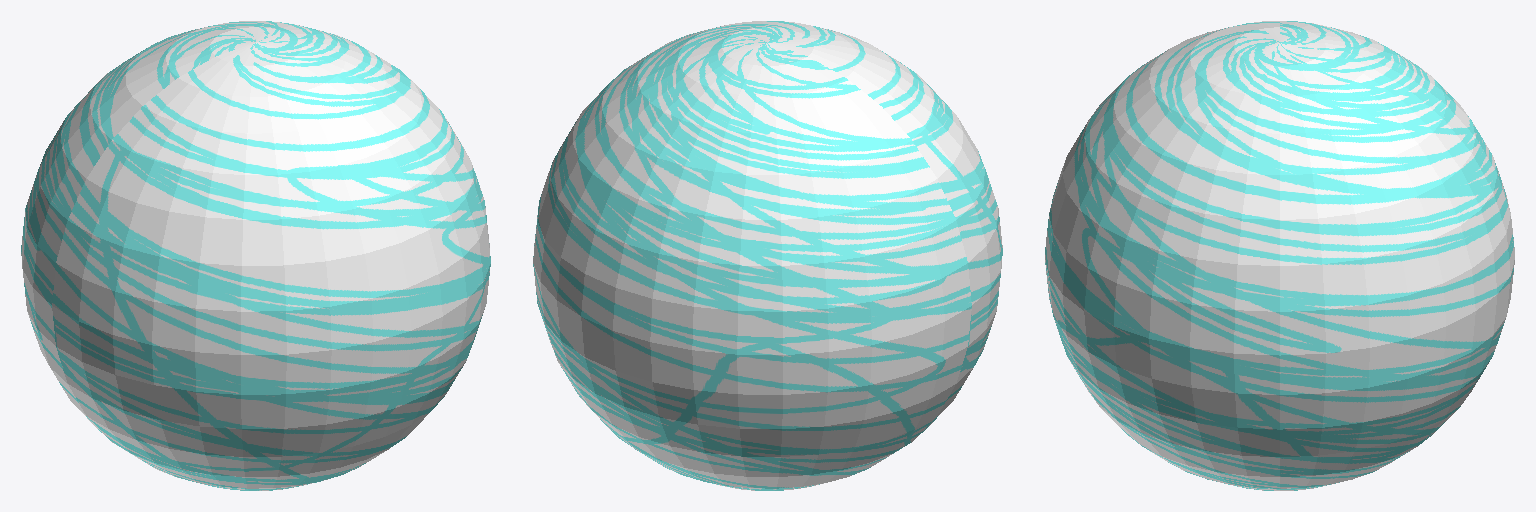
The picture shows the model from 3 angles: view 1: azimuth 30°, elevation 25°; view 2: azimuth 150°, elevation 25°; view 3: azimuth 270°, elevation 25°; orthographic projection.
Parts seen in each view (by area): view 1: 球; view 2: 球; view 3: 球.
Part boxes in pixels (x1,y1,x2,y2): 球: (21, 21, 490, 490); 球: (533, 21, 1002, 490); 球: (1045, 21, 1514, 490).
Size of the model in its own units: 2 by 2 by 2.
1 materials, 1 textured.